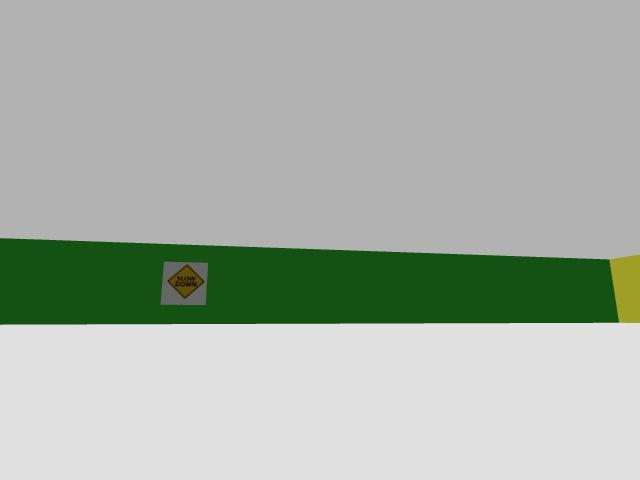slowsign: (161, 262, 206, 304)
